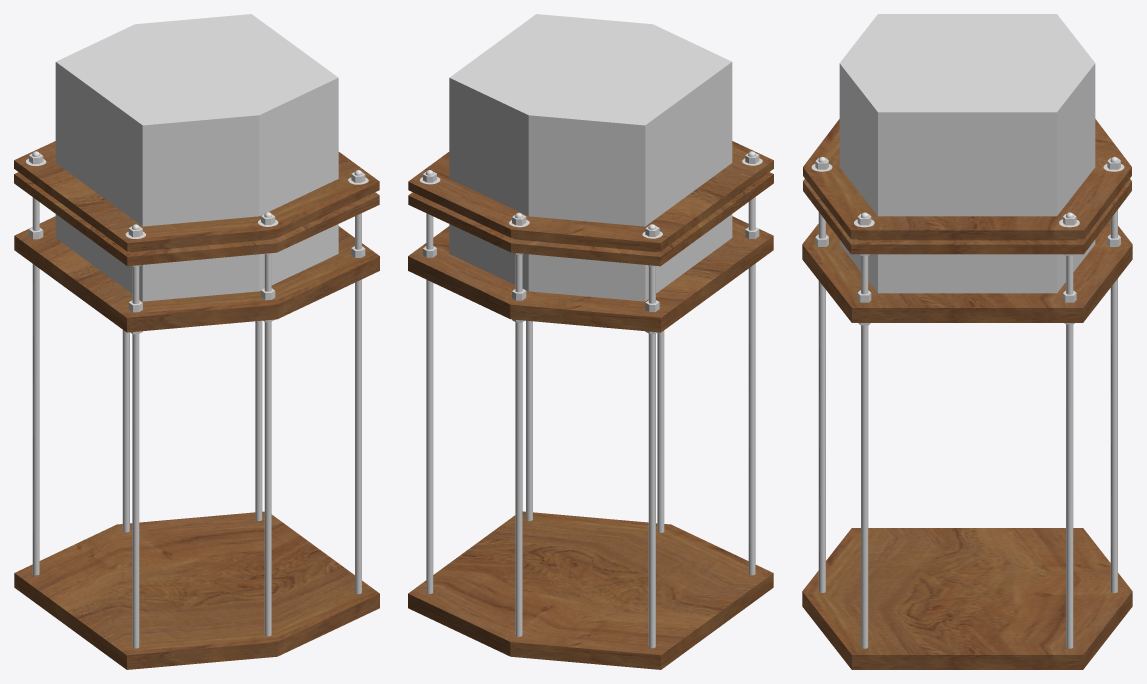
The model's file is ExagonoCristal002.fbx.
3 renders of one model, left to right at view 1: azimuth 30°, elevation 25°; view 2: azimuth 150°, elevation 25°; view 3: azimuth 270°, elevation 25°, orthographic. The views are drawn at different scales.
Parts seen in each view (by area): view 1: Exagono, Cube, BaseSuperior, Base, palo.002, palo.005, palo.003, palo, palo.004, palo.001; view 2: Exagono, Cube, BaseSuperior, Base, palo.004, palo.003, palo.001, palo.002, palo.005, palo; view 3: Exagono, Cube, BaseSuperior, Base, palo.001, palo, palo.004, palo.005.
Part boxes in pixels (<box>): Exagono: <box>55,14,338,301</box>; Cube: <box>14,511,379,669</box>; BaseSuperior: <box>14,141,379,266</box>; Base: <box>14,216,379,332</box>; palo.002: <box>132,266,139,648</box>; palo.005: <box>264,254,271,636</box>; palo.003: <box>32,197,39,575</box>; palo: <box>355,213,361,594</box>; palo.004: <box>122,330,129,532</box>; palo.001: <box>255,320,262,521</box>; Exagono: <box>449,14,732,301</box>; Cube: <box>408,511,773,669</box>; BaseSuperior: <box>408,141,773,266</box>; Base: <box>408,216,773,332</box>; palo.004: <box>515,254,522,636</box>; palo.003: <box>648,266,655,648</box>; palo.001: <box>426,213,433,593</box>; palo.002: <box>748,197,755,575</box>; palo.005: <box>657,330,664,532</box>; palo: <box>526,320,532,520</box>; Exagono: <box>839,14,1095,293</box>; Cube: <box>802,528,1132,669</box>; BaseSuperior: <box>803,119,1131,254</box>; Base: <box>802,219,1132,322</box>; palo.001: <box>1066,255,1073,648</box>; palo: <box>861,255,868,648</box>; palo.004: <box>1110,210,1117,592</box>; palo.005: <box>818,212,825,592</box>.
Bounding box in the file's own units: 560 × 1117 × 616.
